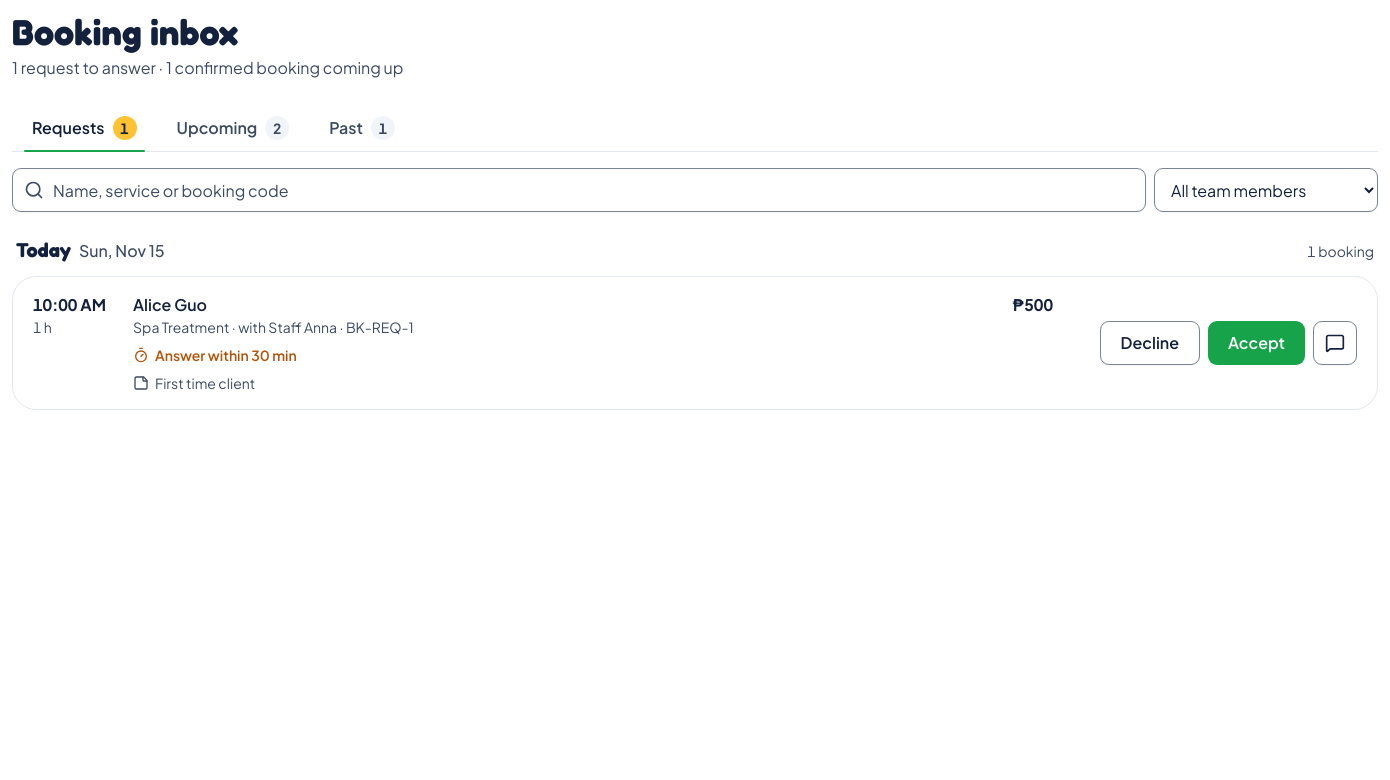
BookingInbox › offers Mark done only once a booking has started
Click the tab "Upcoming 2": (233, 128) 157,104 -> 309,152
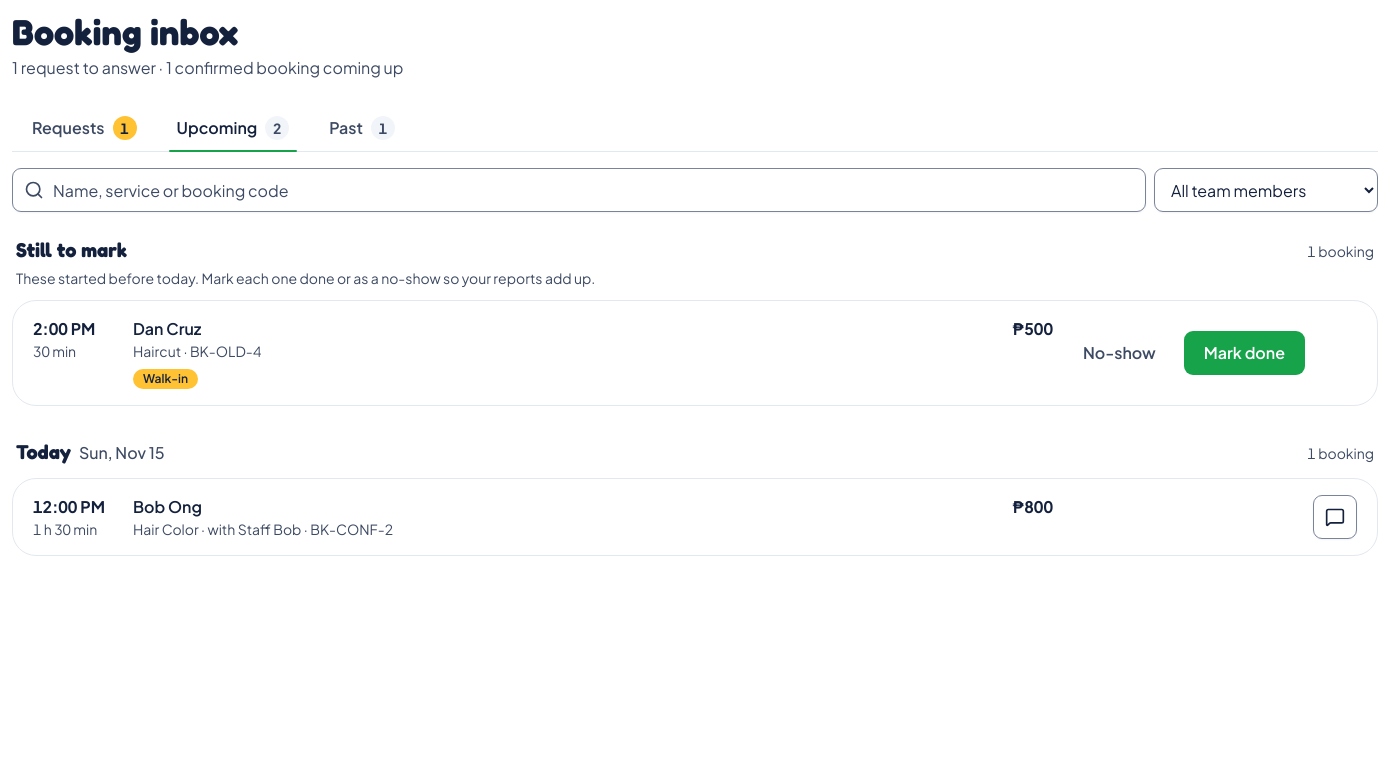
Click the button "Mark done": (1244, 353) 1184,331 -> 1305,375
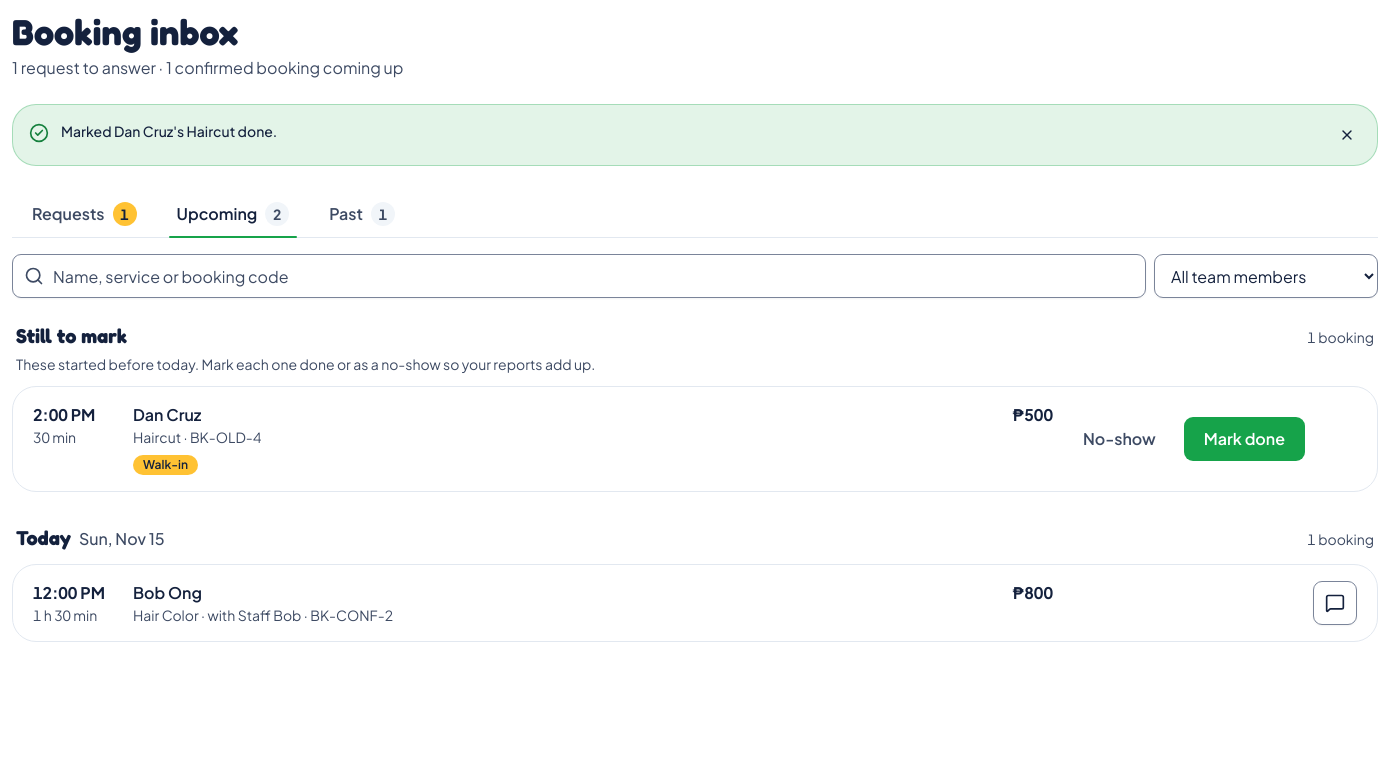
Expected: the message reads "Marked Dan Cruz's Haircut done.", 61,122 -> 277,140
